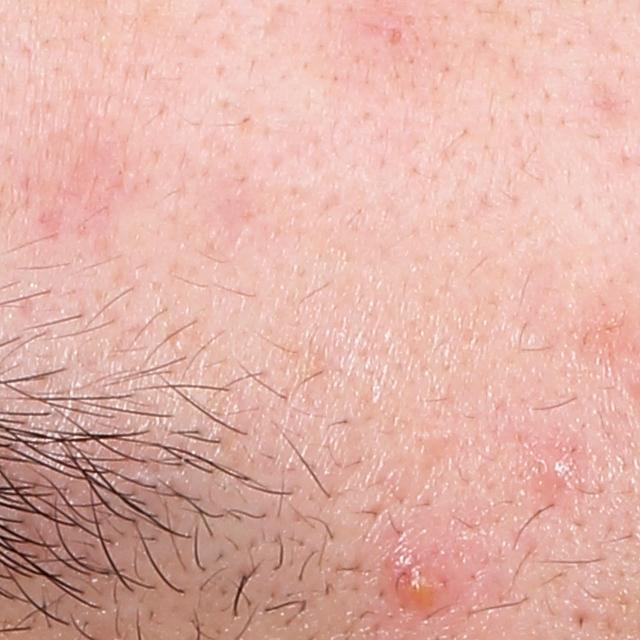papule: (382, 549, 445, 612), (540, 441, 589, 499)
